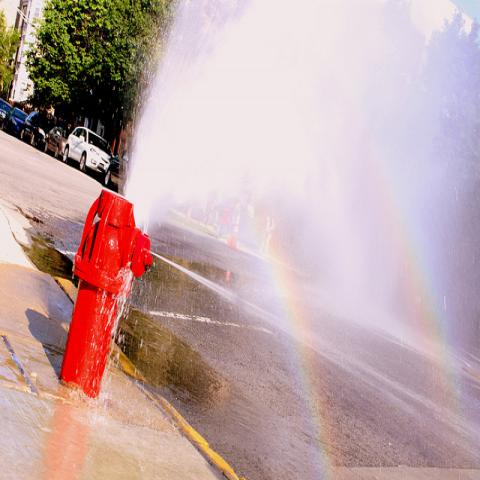car: (62, 127, 114, 186), (21, 112, 60, 160), (109, 148, 134, 196), (44, 125, 72, 158), (7, 107, 27, 137), (0, 98, 12, 126)
